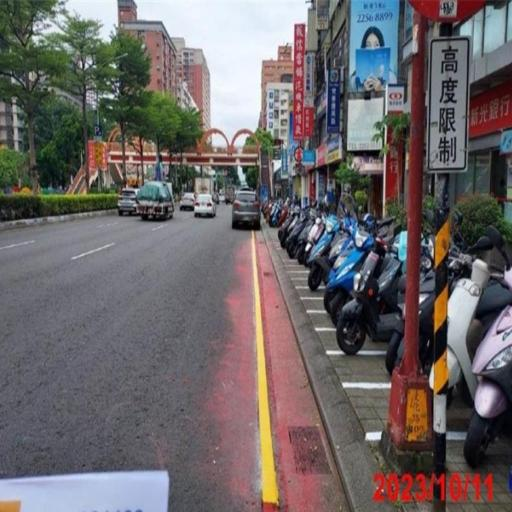car: (135, 172, 178, 228), (226, 178, 266, 231), (190, 191, 218, 223), (115, 179, 138, 214), (180, 186, 198, 210)
yellowline: (245, 229, 288, 501)
